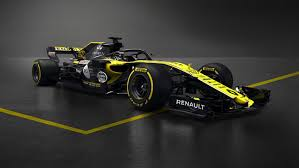f1_car: (28, 31, 276, 124)
